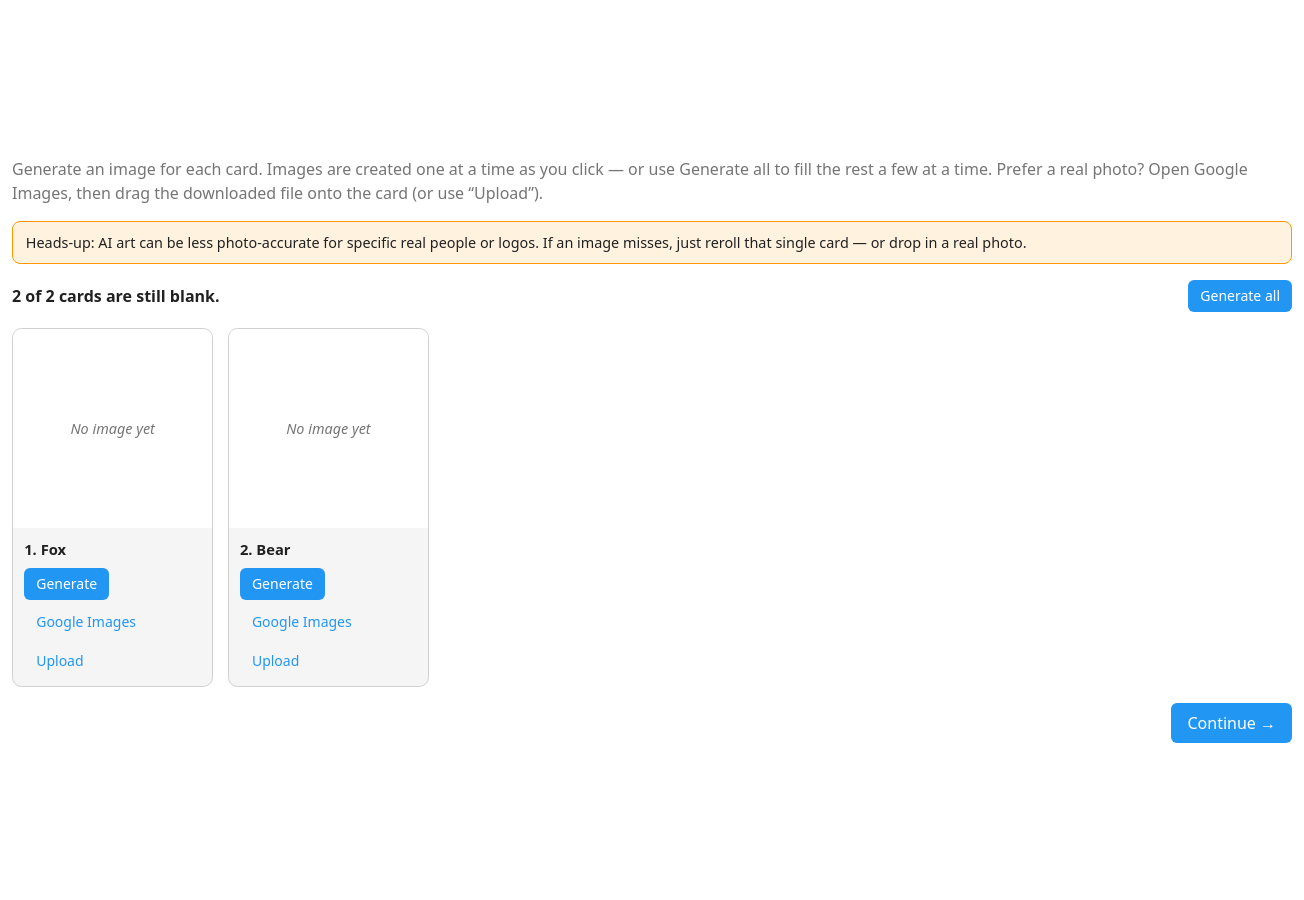
ImagesStep › shows the blank-slide count and an AI-art accuracy caveat; Continue is always allowed
Expected: the text "2 of 2 cards are still blank." is shown, left=12, top=284, right=220, bottom=308
Expected: the text "less photo-accurate" is shown, left=26, top=232, right=1026, bottom=252
Note: Continue works even with blank slides.
What coordinates should you click on to do the following:
click the button "Continue →"
I would click on:
 (1232, 723)
Its box is left=1172, top=703, right=1292, bottom=743.
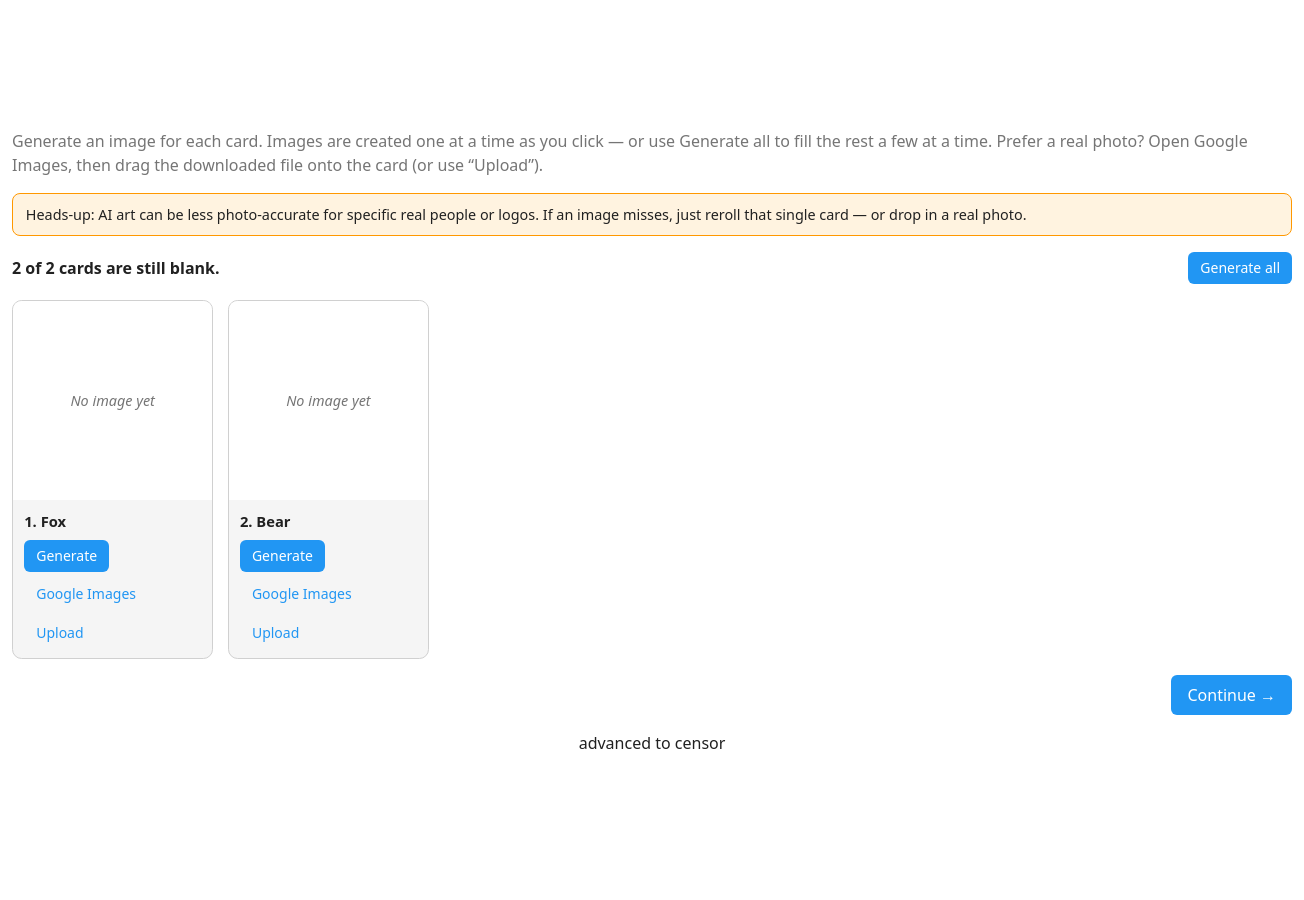
Now the text "advanced to censor" is shown, box left=579, top=732, right=725, bottom=754
